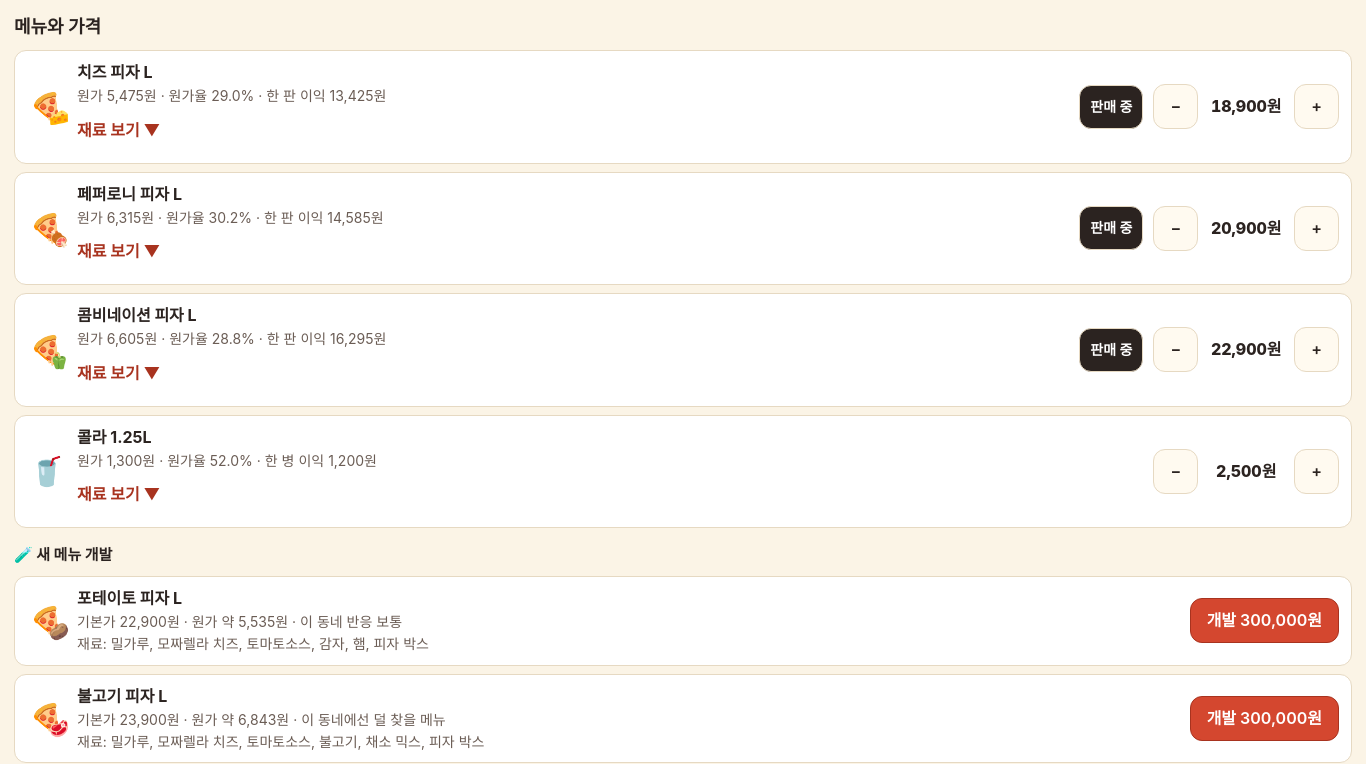
Test: 메뉴: 재료 보기를 누르면 들어가는 재료가 보인다
Click the button with aria-label "콤비네이션 피자 L 재료 보기": (119, 373) [77,352,1069,396]
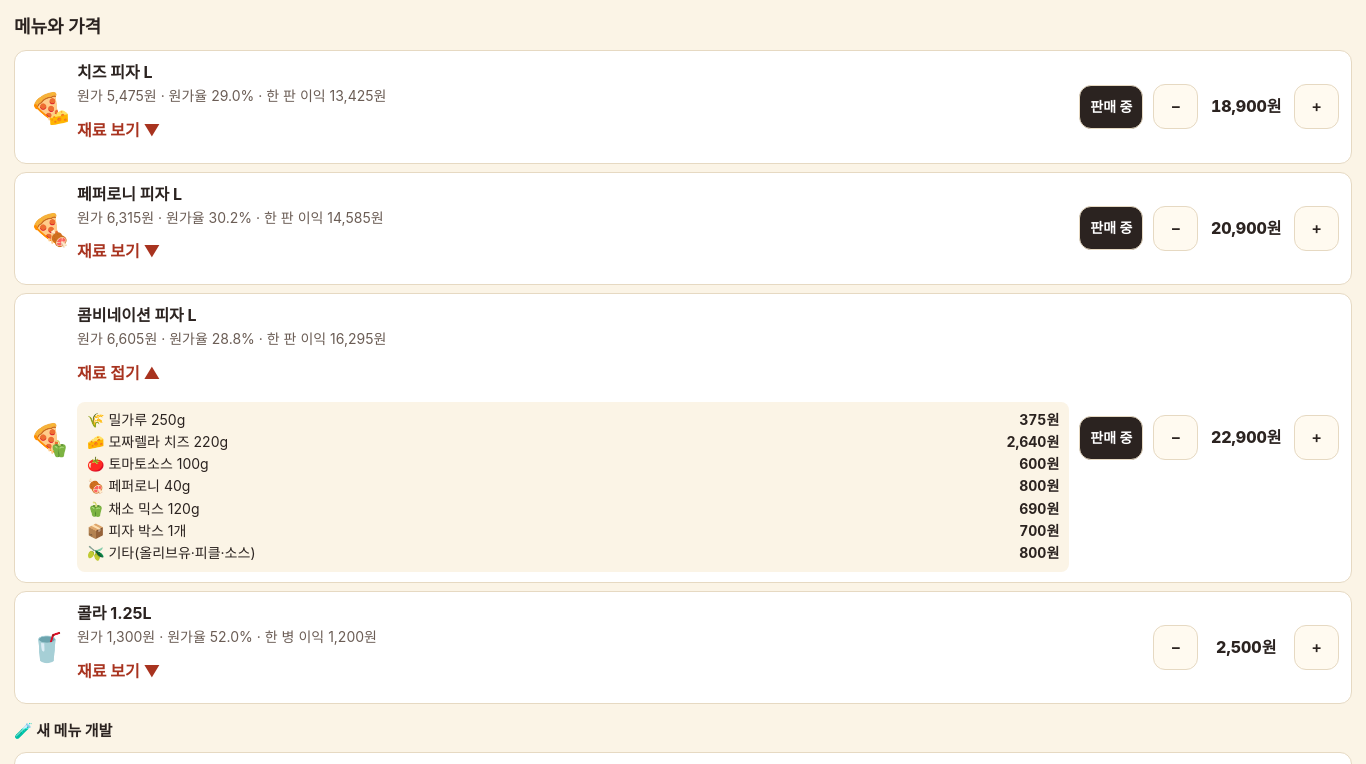
Check: the list item "🫑 채소 믹스 120g 690원" is shown, box [87,499,1059,519]
